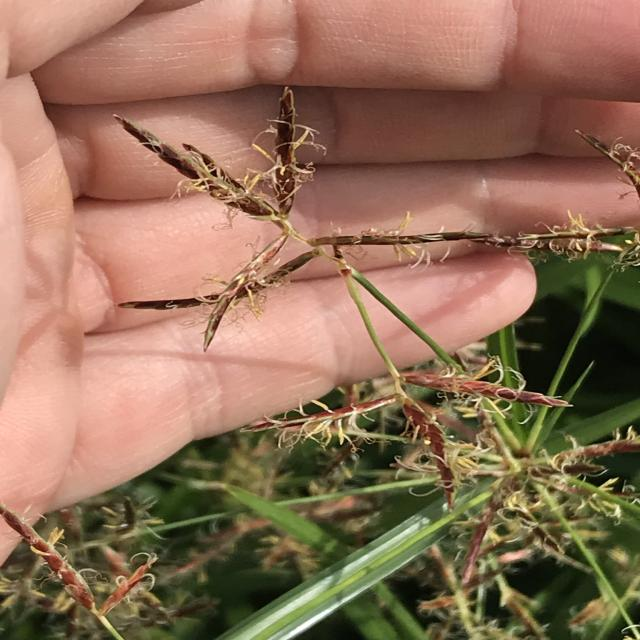cyperus: (107, 79, 640, 599), (111, 90, 640, 470), (404, 392, 640, 604), (0, 474, 177, 624)
